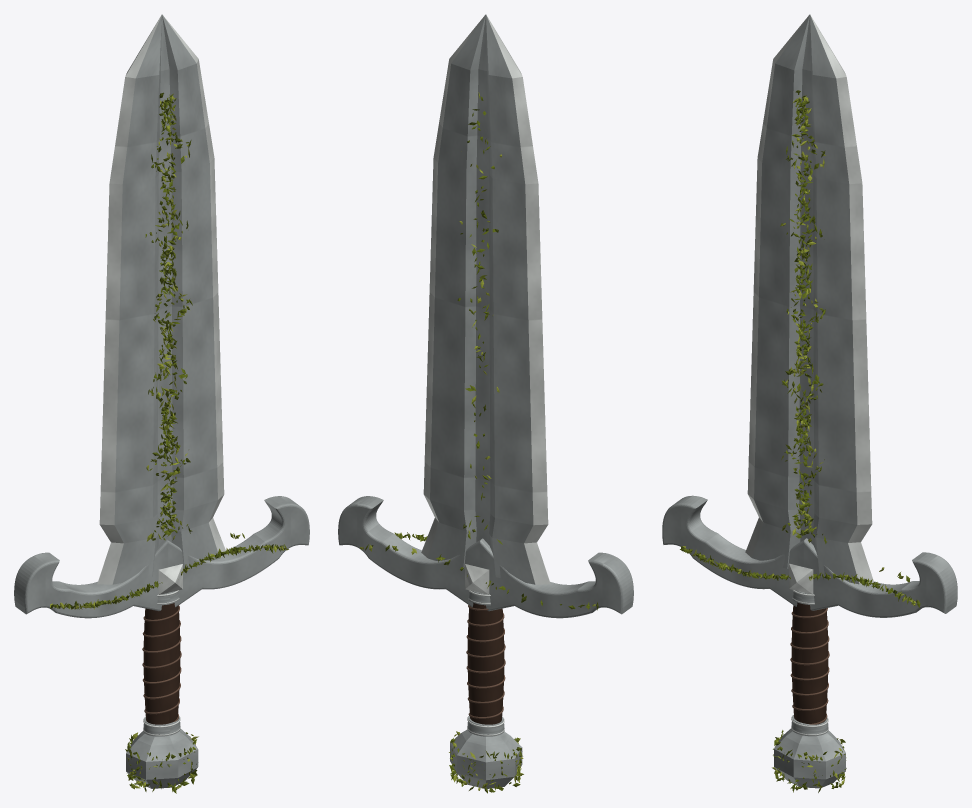
The model's file is mossbound_sword.glb.
3 views of the same model, side by side, from view 1: azimuth 30°, elevation 25°; view 2: azimuth 150°, elevation 25°; view 3: azimuth 330°, elevation 25° (orthographic).
Visible parts, largest first — view 1: mossbound_sword-forged-body, mossbound_sword-honed-edge, living-olive-moss, mossbound_sword-grip-hide, living-moss-fresh-leaf-tips, mossbound_sword-wrap-overlap; view 2: mossbound_sword-forged-body, mossbound_sword-honed-edge, mossbound_sword-grip-hide, living-olive-moss, mossbound_sword-wrap-overlap, living-moss-fresh-leaf-tips; view 3: mossbound_sword-forged-body, mossbound_sword-honed-edge, living-olive-moss, mossbound_sword-grip-hide, living-moss-fresh-leaf-tips, mossbound_sword-wrap-overlap.
Boxes of the visible parts, box(x1,y1,x2,y2) form: mossbound_sword-forged-body: box(14, 14, 309, 788); mossbound_sword-honed-edge: box(97, 15, 225, 735); living-olive-moss: box(50, 92, 287, 793); mossbound_sword-grip-hide: box(143, 603, 180, 724); living-moss-fresh-leaf-tips: box(50, 94, 288, 788); mossbound_sword-wrap-overlap: box(142, 605, 181, 721); mossbound_sword-forged-body: box(338, 14, 633, 788); mossbound_sword-honed-edge: box(421, 15, 550, 735); mossbound_sword-grip-hide: box(467, 603, 504, 724); living-olive-moss: box(365, 96, 598, 793); mossbound_sword-wrap-overlap: box(466, 605, 505, 718); living-moss-fresh-leaf-tips: box(360, 92, 595, 790); mossbound_sword-forged-body: box(662, 14, 957, 788); mossbound_sword-honed-edge: box(745, 15, 873, 735); living-olive-moss: box(680, 90, 920, 792); mossbound_sword-grip-hide: box(791, 602, 828, 723); living-moss-fresh-leaf-tips: box(682, 96, 916, 788); mossbound_sword-wrap-overlap: box(790, 608, 829, 724).
Bounding box in the file's own units: 0.5809 × 1.5 × 0.1168.
6 materials, 6 textured.
